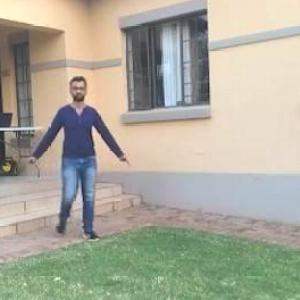land: (28, 81, 128, 238)
